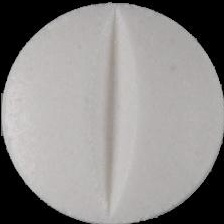0054-0011: (0, 0, 224, 224)
